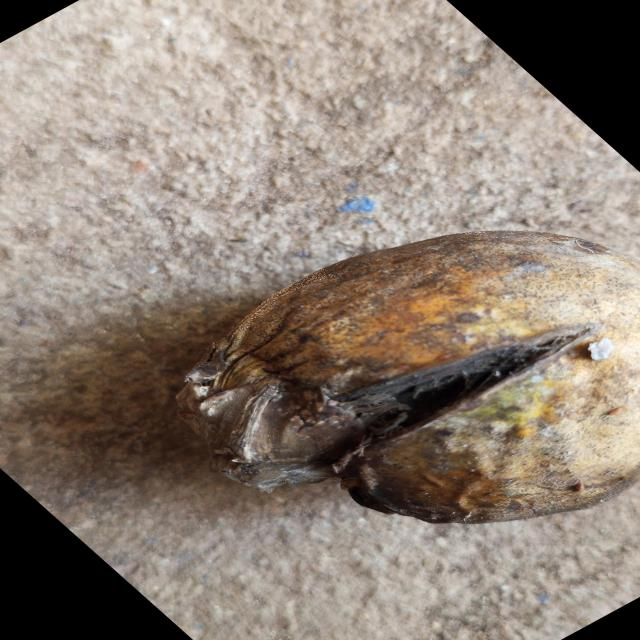damaged: (183, 228, 640, 528)
